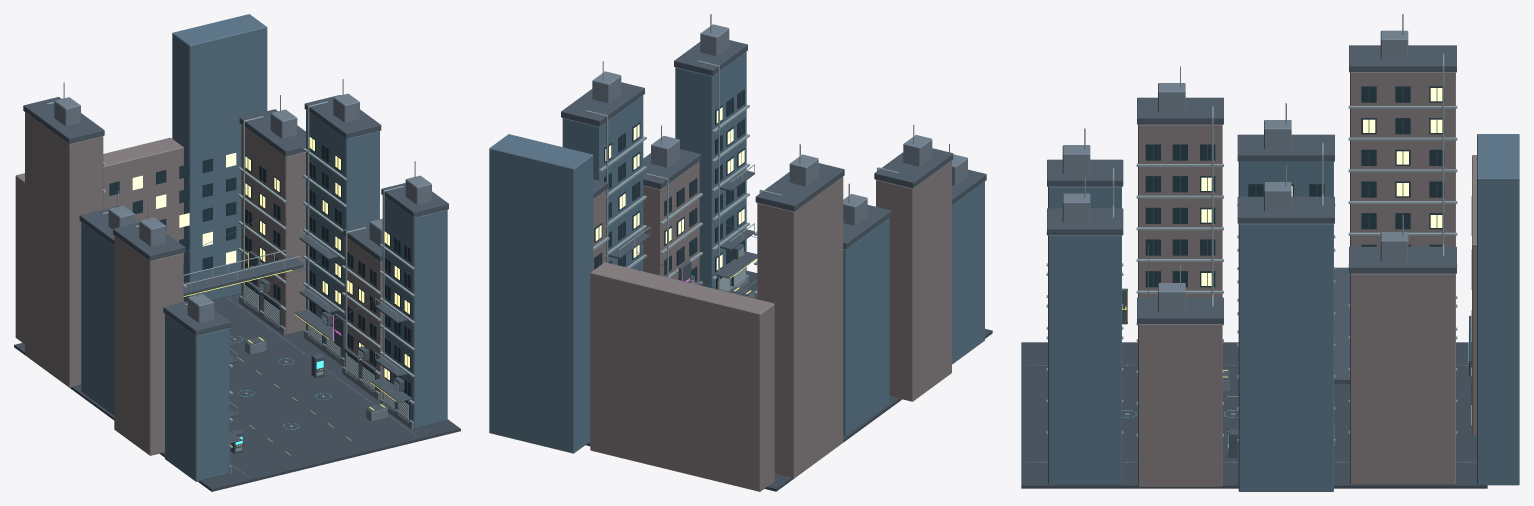
Rendered from cyberpunk-alley.glb.
3 views of the same model, side by side, from view 1: azimuth 30°, elevation 25°; view 2: azimuth 150°, elevation 25°; view 3: azimuth 270°, elevation 25° (orthographic). The views are drawn at different scales.
Parts seen in each view (by area): view 1: Alley_blue_facade, Alley_warm_facade, Alley_asphalt, Alley_metal, Alley_silver, Alley_window, Alley_concrete, Alley_lit_window; view 2: Alley_warm_facade, Alley_blue_facade, Alley_metal, Alley_concrete, Alley_silver, Alley_window, Alley_lit_window, Alley_asphalt; view 3: Alley_blue_facade, Alley_warm_facade, Alley_metal, Alley_asphalt, Alley_window, Alley_concrete, Alley_silver, Alley_lit_window.
Boxes of the visible parts, x1,y1,x2,y2 form: Alley_blue_facade: (81,14,447,481); Alley_warm_facade: (15,112,382,455); Alley_asphalt: (14,293,460,491); Alley_metal: (23,95,448,478); Alley_silver: (46,79,415,473); Alley_window: (109,135,411,420); Alley_concrete: (54,93,431,473); Alley_lit_window: (132,137,409,380); Alley_warm_facade: (590,160,951,491); Alley_blue_facade: (489,52,984,453); Alley_metal: (561,40,986,298); Alley_concrete: (592,24,967,298); Alley_silver: (585,14,949,294); Alley_window: (594,89,744,289); Alley_lit_window: (595,107,744,270); Alley_asphalt: (585,270,992,491); Alley_blue_facade: (1048,134,1519,491); Alley_warm_facade: (1138,72,1476,486); Alley_metal: (1026,45,1476,462); Alley_asphalt: (1021,342,1487,488); Alley_window: (1145,86,1471,404); Alley_concrete: (1062,30,1408,446); Alley_silver: (1042,14,1466,462); Alley_lit_window: (1201,88,1471,424).
Bounding box in the file's own units: 35.3 × 35.3 × 47.
